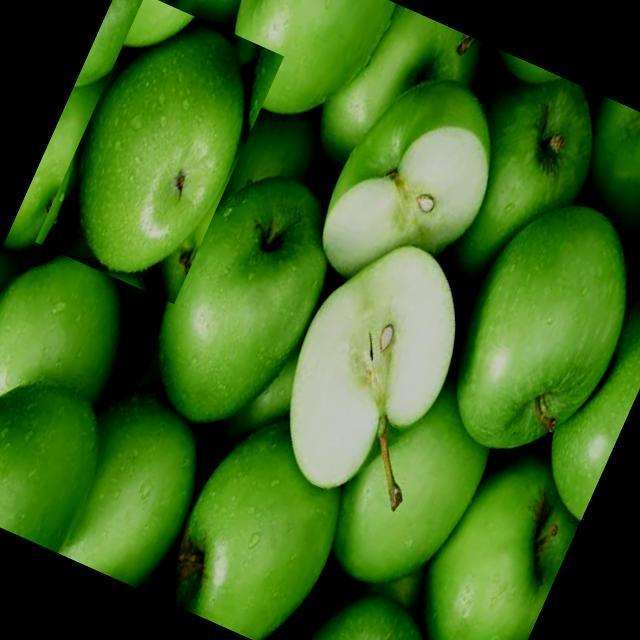Green Apple: (289, 245, 457, 501), (457, 205, 627, 450), (159, 176, 327, 423), (79, 28, 245, 274), (176, 421, 341, 640), (322, 80, 492, 278), (334, 386, 489, 584), (425, 457, 580, 640), (456, 77, 594, 271), (58, 397, 196, 587), (550, 300, 640, 522), (234, 1, 396, 117), (1, 255, 121, 403), (1, 383, 100, 552), (592, 96, 640, 226), (305, 595, 426, 640)
Red Apple: (1, 1, 640, 640)
